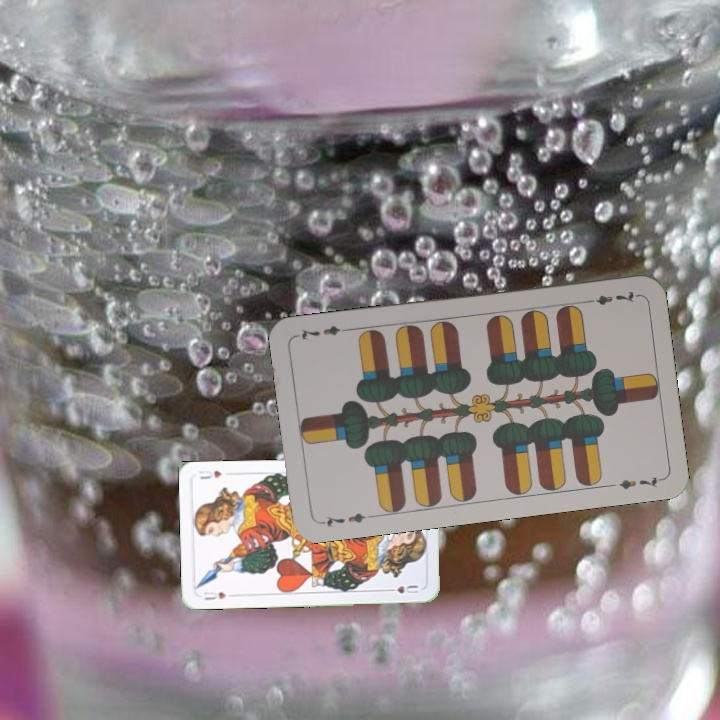E7: (581, 287, 640, 308), (316, 509, 375, 529)
HU: (199, 588, 229, 603)
